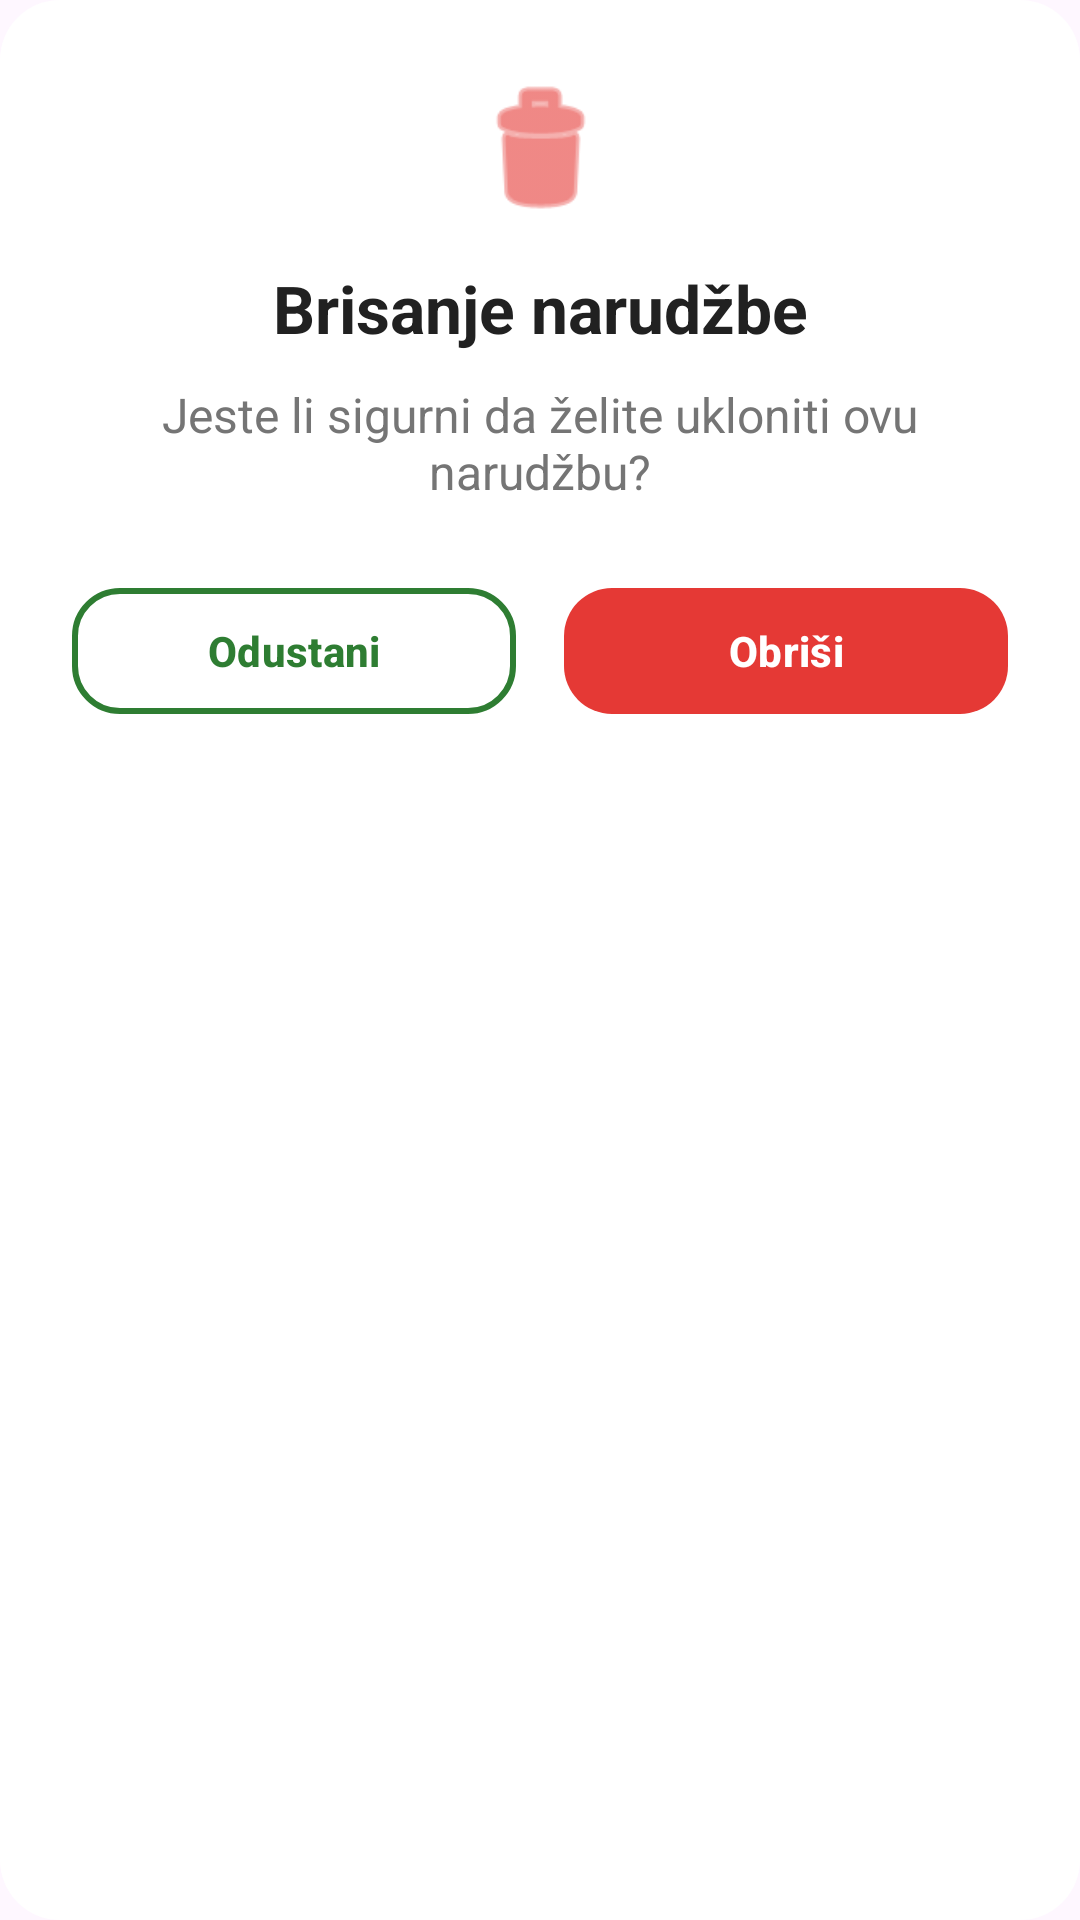

Where icons sit on this 1080 x 1920 app screen, as BBox(x1, y1, x2, y2):
delete: BBox(497, 87, 585, 209)
